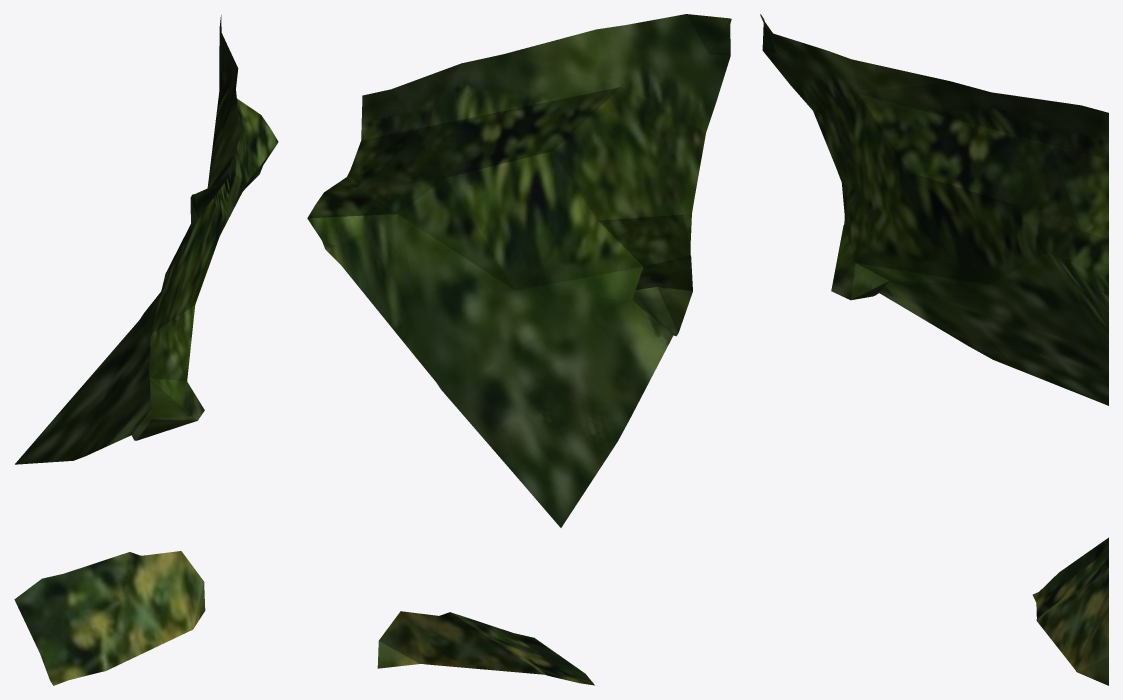
3 renders of one model, left to right at view 1: azimuth 30°, elevation 25°; view 2: azimuth 150°, elevation 25°; view 3: azimuth 270°, elevation 25°, orthographic. The views are drawn at different scales.
Size of the model in its own units: 0.3906 by 0.8373 by 0.4558.
Materials: 1 (1 with a texture image).
